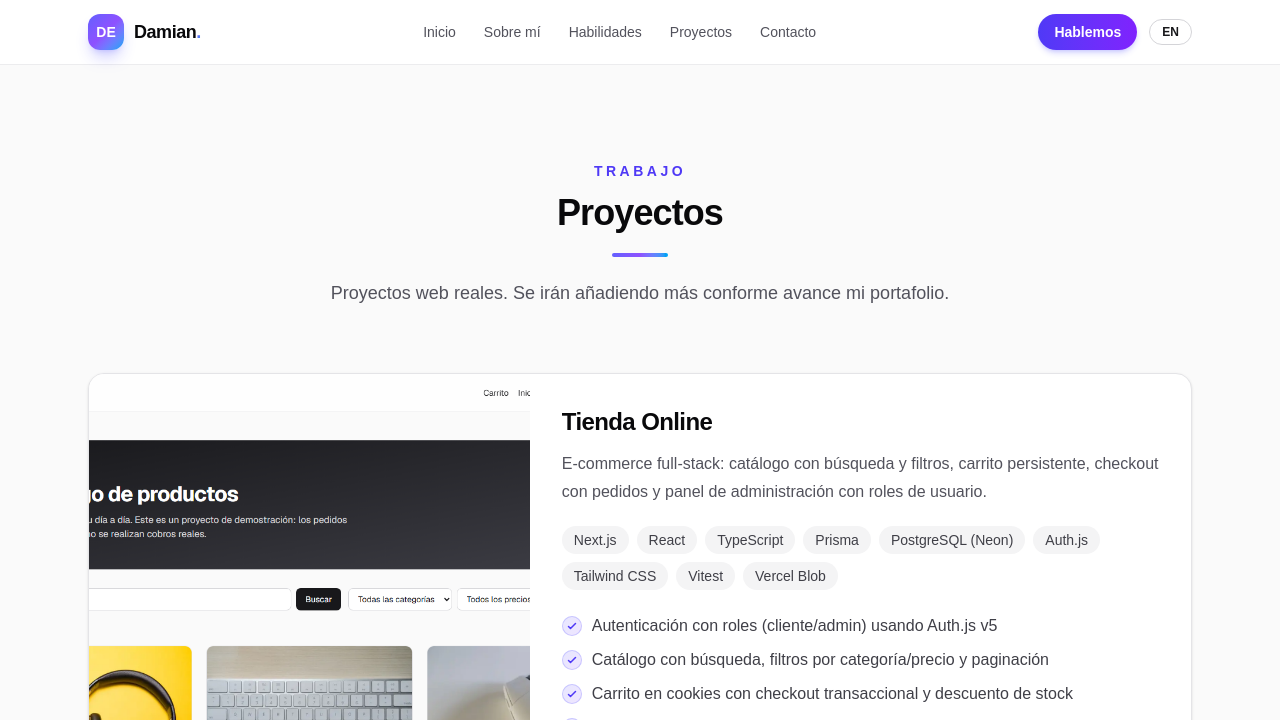
Test: Projects › cambia el contenido al alternar idioma
The image size is (1280, 720).
Click the button with aria-label "Cambiar a inglés": [1171, 32] box [1149,19,1192,45]
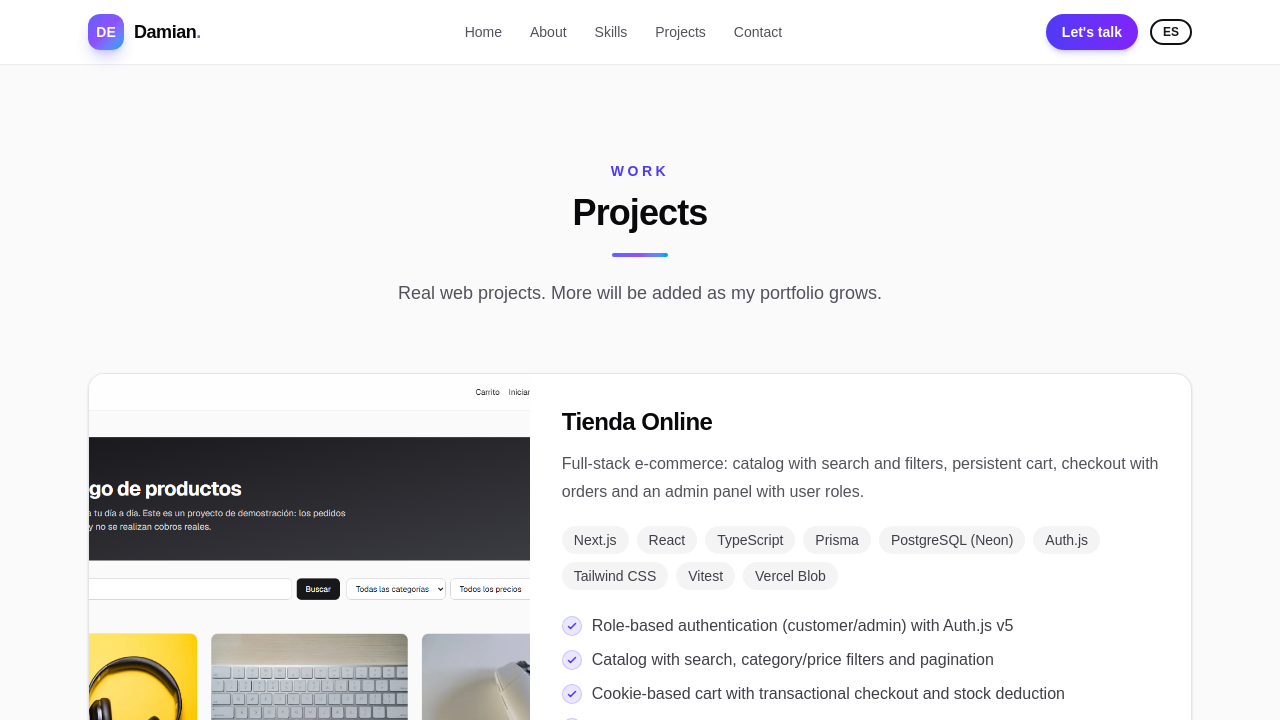
Expected: the heading "Tienda Online" is shown, [562,408,712,435]
Now the text "Full-stack e-commerce: catalog with search and filters, persistent cart, checkout with orders and an admin panel with us" is shown, box [562,455,1158,500]
